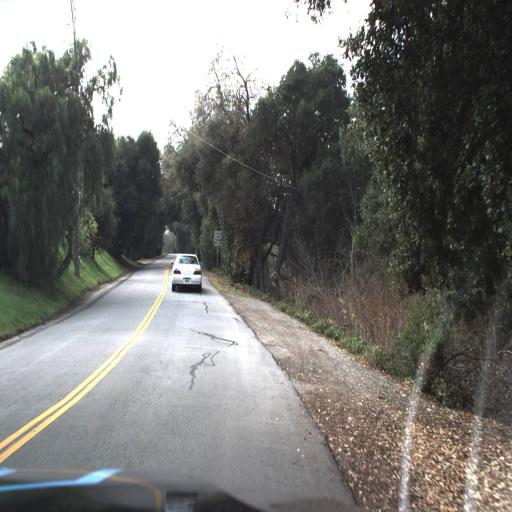car: (169, 252, 208, 300)
